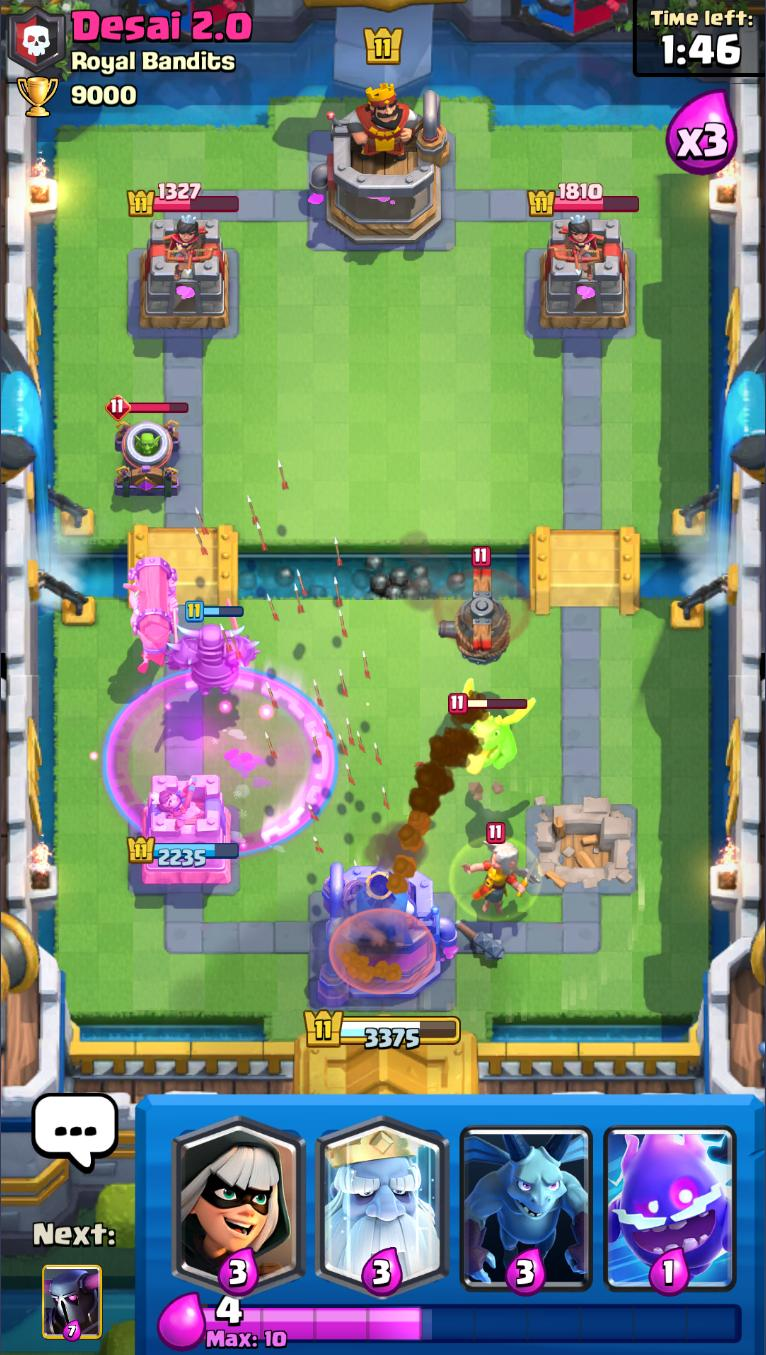BabyDragon: (449, 678, 538, 775)
BanditDeck: (166, 1096, 312, 1295)
ElectroSpiritDeck: (597, 1097, 742, 1298)
Elixir: (203, 1296, 744, 1351)
EnemyTower: (135, 216, 234, 331), (537, 216, 633, 333)
EvoMortar: (104, 393, 189, 499)
FlyingMachine: (437, 546, 532, 670)
Healer: (459, 823, 543, 918)
KingTower: (307, 78, 453, 247)
MinionsDeck: (455, 1097, 598, 1293)
MyBattleRam: (122, 552, 182, 674)
MyKingHP: (302, 1010, 462, 1053)
MyKingTower: (315, 859, 460, 1009)
MyPekka: (166, 601, 263, 698)
MyPrincessTower: (128, 772, 242, 890)
MyPrincessTowerBrocken: (526, 798, 641, 900)
MyPrincessTowerHP: (127, 836, 241, 869)
PekkaNext: (41, 1262, 105, 1343)
Rage: (104, 669, 339, 855)
RoyaleGhostDeck: (310, 1095, 451, 1290)
TowerPrincessHP: (528, 182, 640, 219), (128, 182, 241, 218)
